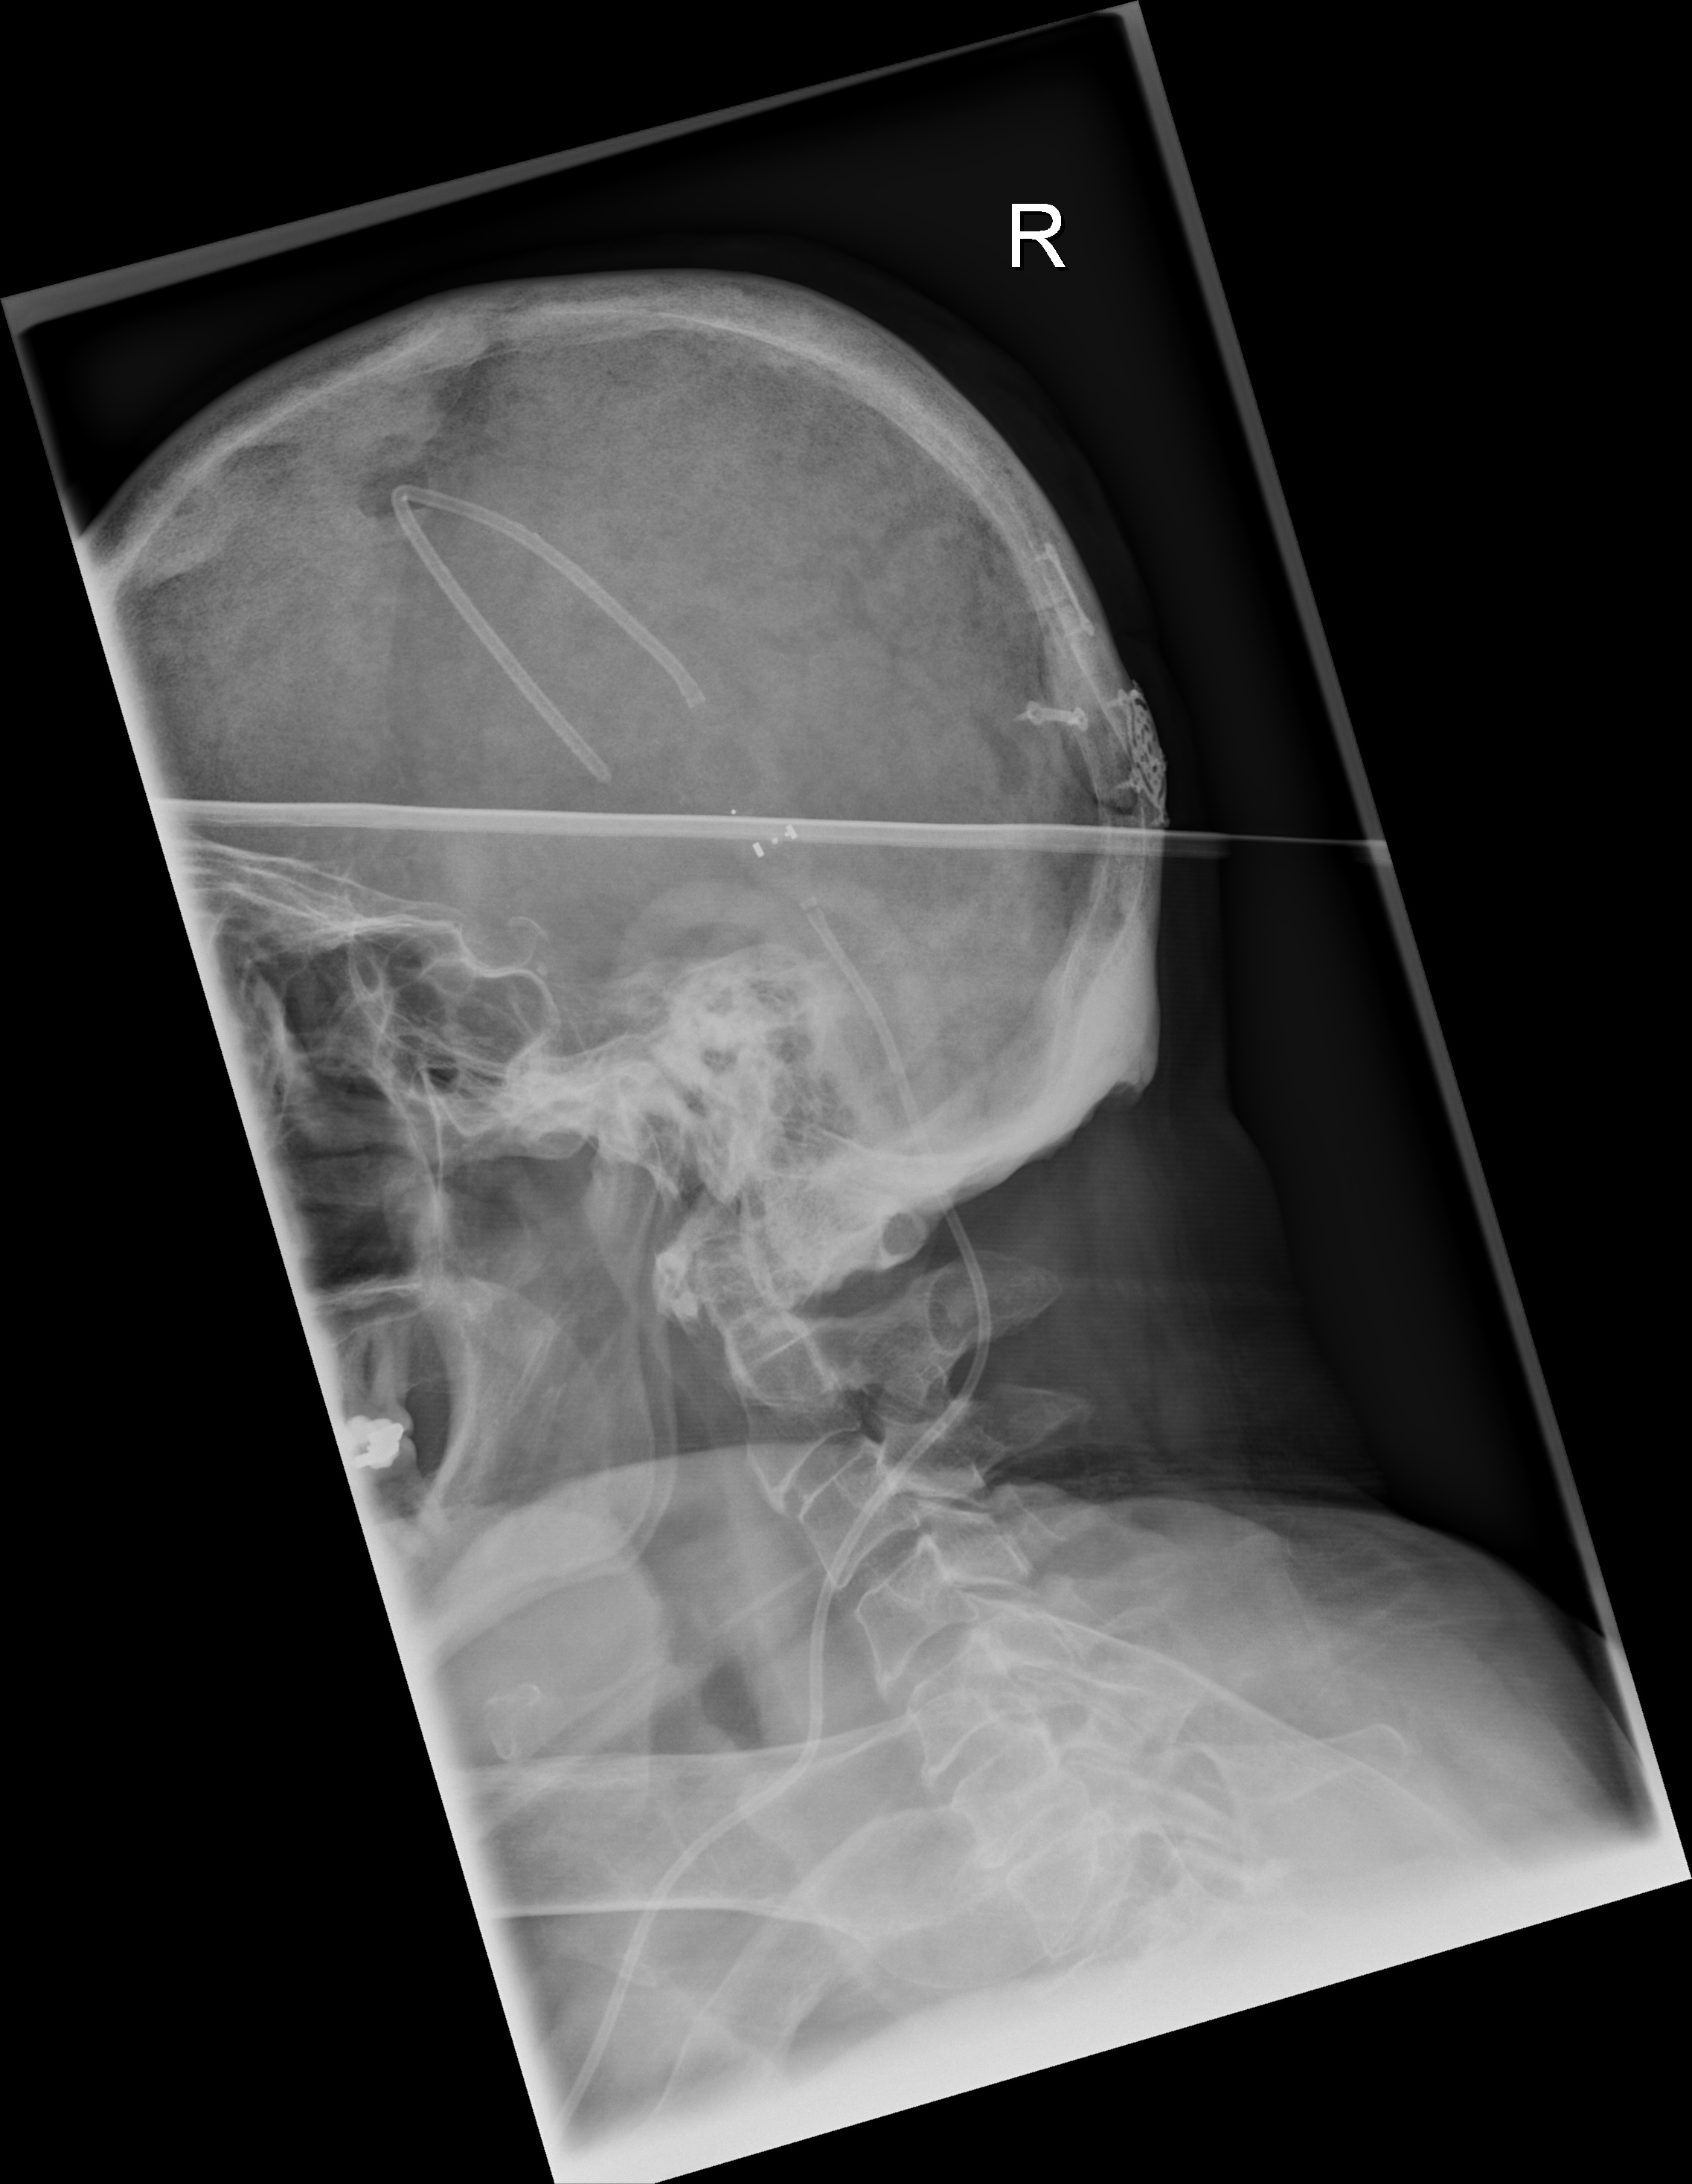Codman Certas: (724, 796, 826, 893)
